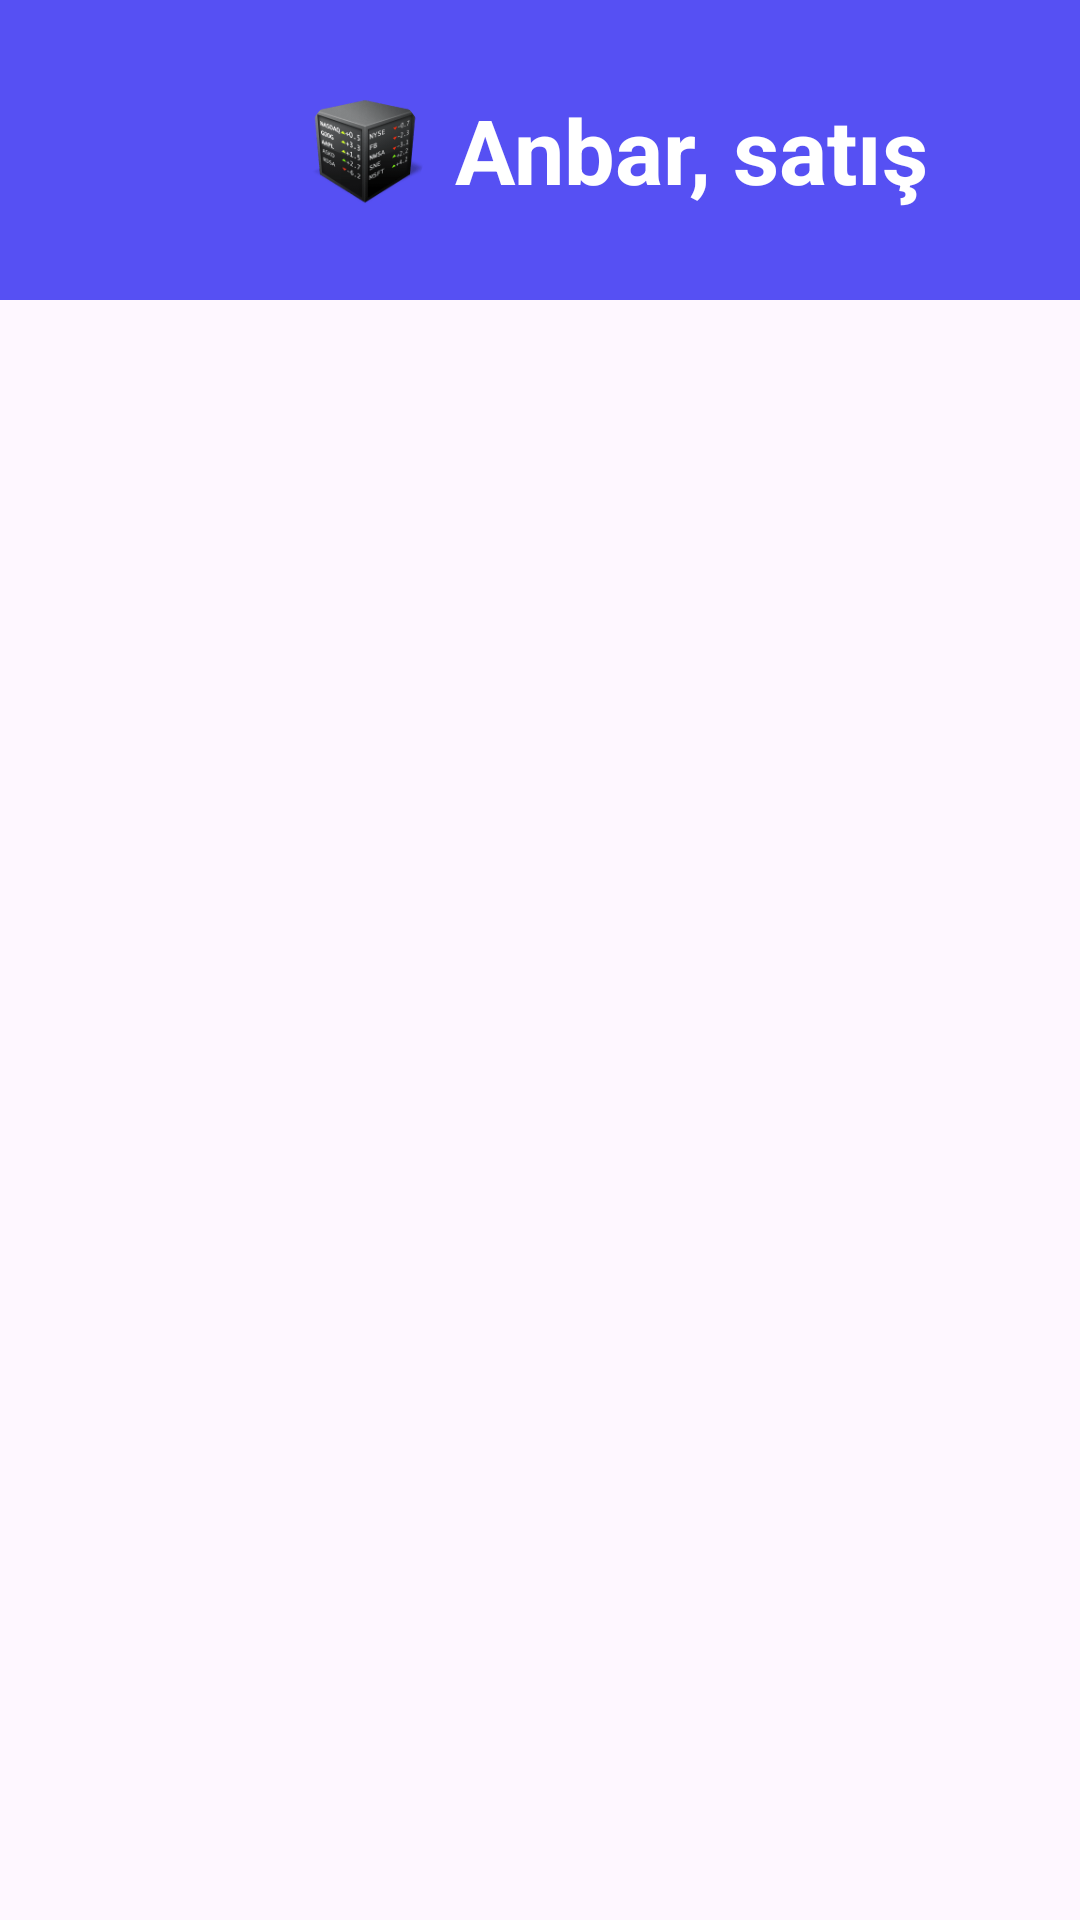

Named icons in this screenshot (1080*1920) and their centers, [x,y]:
stock: [367,151]
